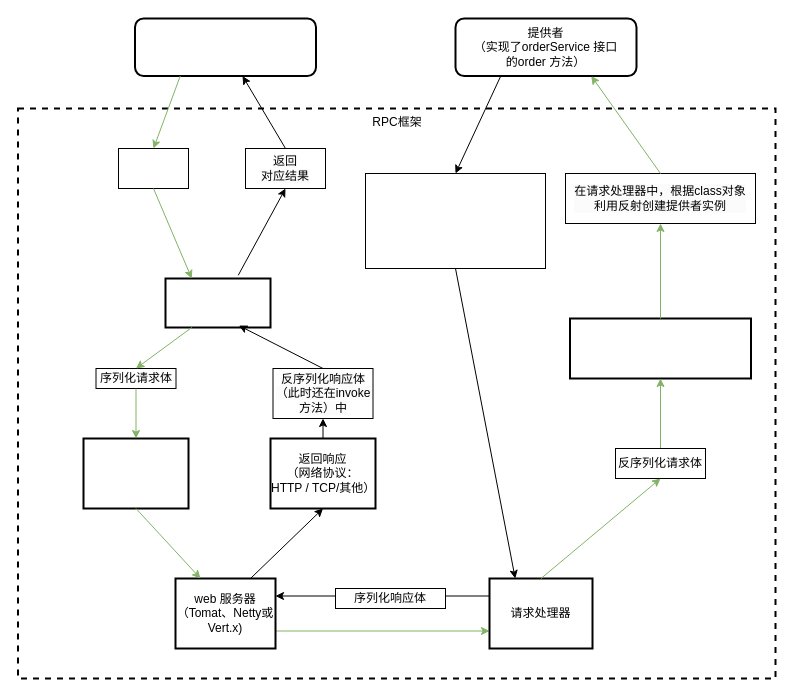
The diagram is 794 pixels wide and 696 high, and some of its shapes have lost their labels. The shapes that lost their labels are listed below. From the top down, each one's centre as x and y in pixels, then its label:
At (225,46): "消费者 （已知orderService 接口 存在order 方法）".
At (153,168): "调用 order方法".
At (455,220): "在请求处理器中，根据实例、 方法名和参数 利用反射执行order方法后 返回结果".
At (217,302): "orderService对应的代理对象 同步执行invoke".
At (660,348): "本地服务注册器 （根据服务名从中获取orderService 对应实现类的class对象）".
At (135,473): "发送请求 （网络协议：HTTP / TCP/其他）".
